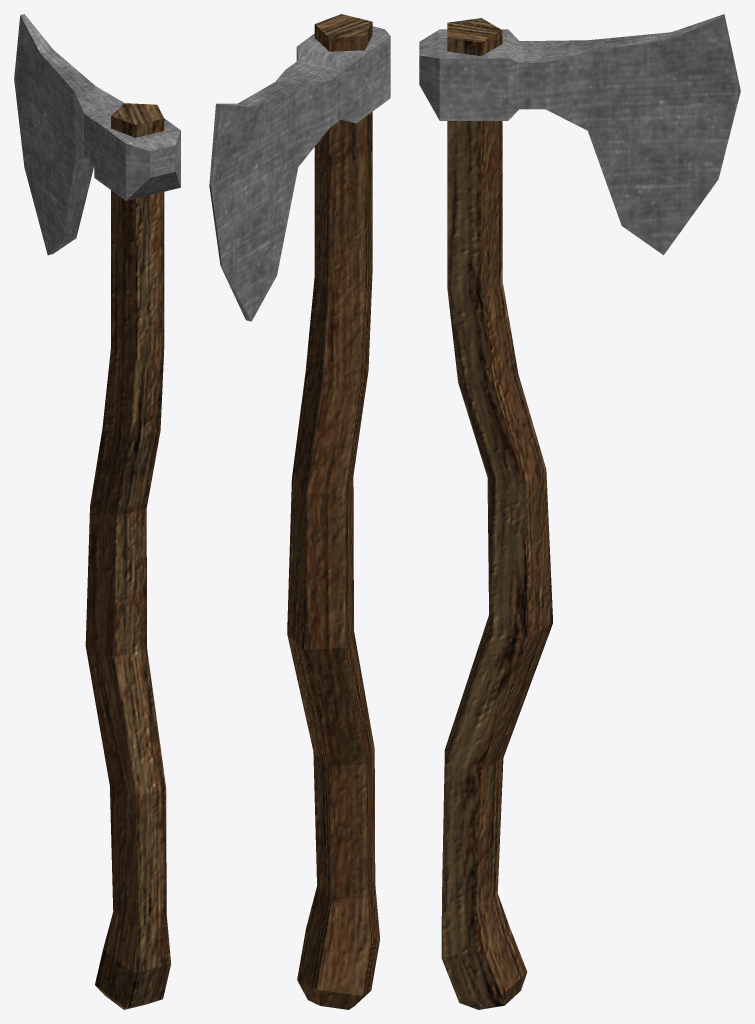
The model's file is Iron_Axe.glb.
The picture shows the model from 3 angles, left to right: view 1: azimuth 30°, elevation 25°; view 2: azimuth 150°, elevation 25°; view 3: azimuth 270°, elevation 25°; orthographic projection. The views are drawn at different scales.
Visible parts, largest first — view 1: axe_handle, axe_head; view 2: axe_handle, axe_head; view 3: axe_handle, axe_head.
Boxes of the visible parts, x1,y1,x2,y2 form: axe_handle: [85, 103, 171, 1009]; axe_head: [14, 14, 180, 255]; axe_handle: [287, 14, 379, 1009]; axe_head: [209, 26, 390, 321]; axe_handle: [441, 18, 552, 1009]; axe_head: [419, 14, 740, 255].
Bounding box in the file's own units: 0.1244 × 1.79 × 0.5282.
2 materials, 2 textured.
